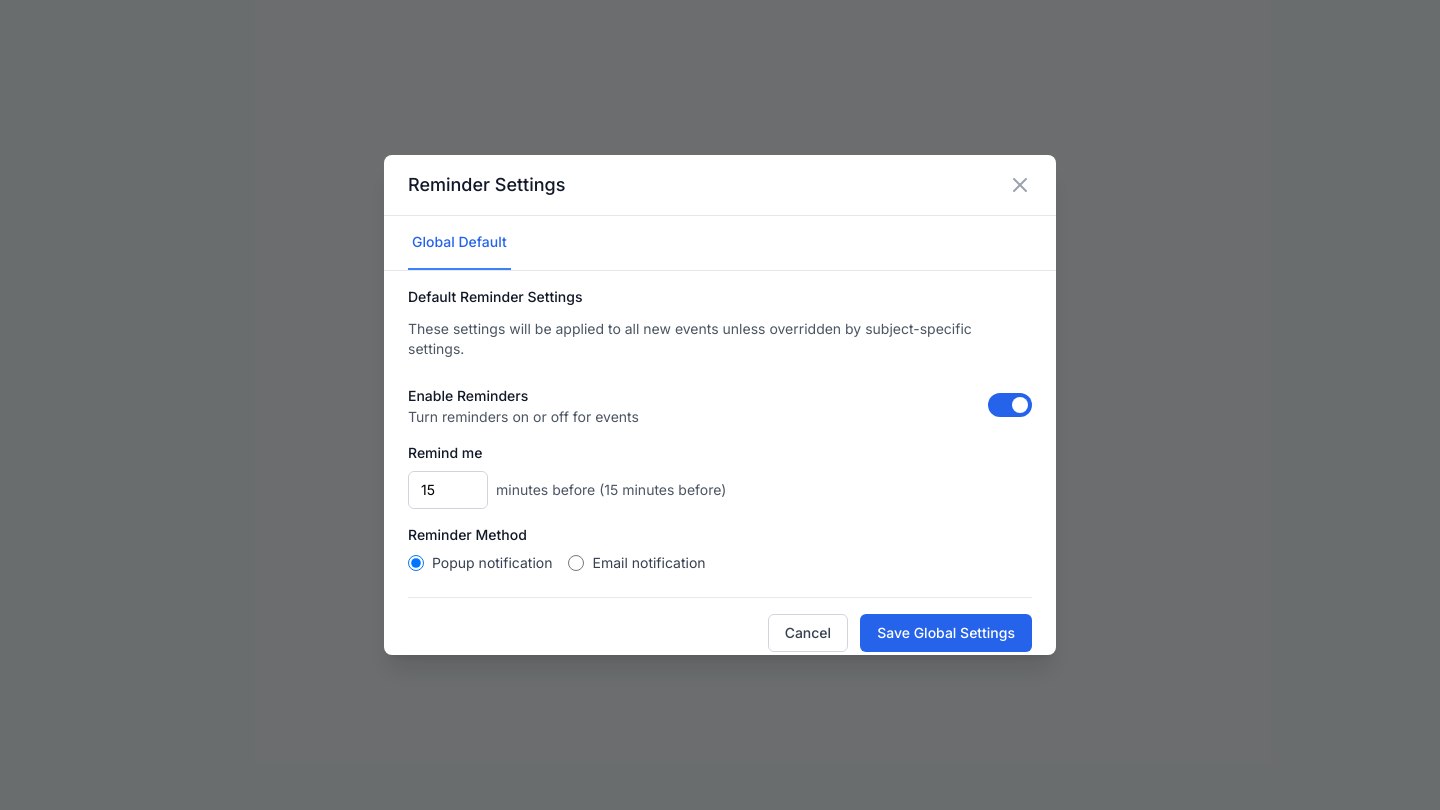
Test: ReminderSettings › should format minutes to readable text
The width and height of the screenshot is (1440, 810).
Check: the text "minutes before (15 minutes before)" is shown, box [496,480,726,500]
// Change to 60 minutes
Replace the text in the number field showing "15" with "60" at (448, 490), box [408,471,488,509]
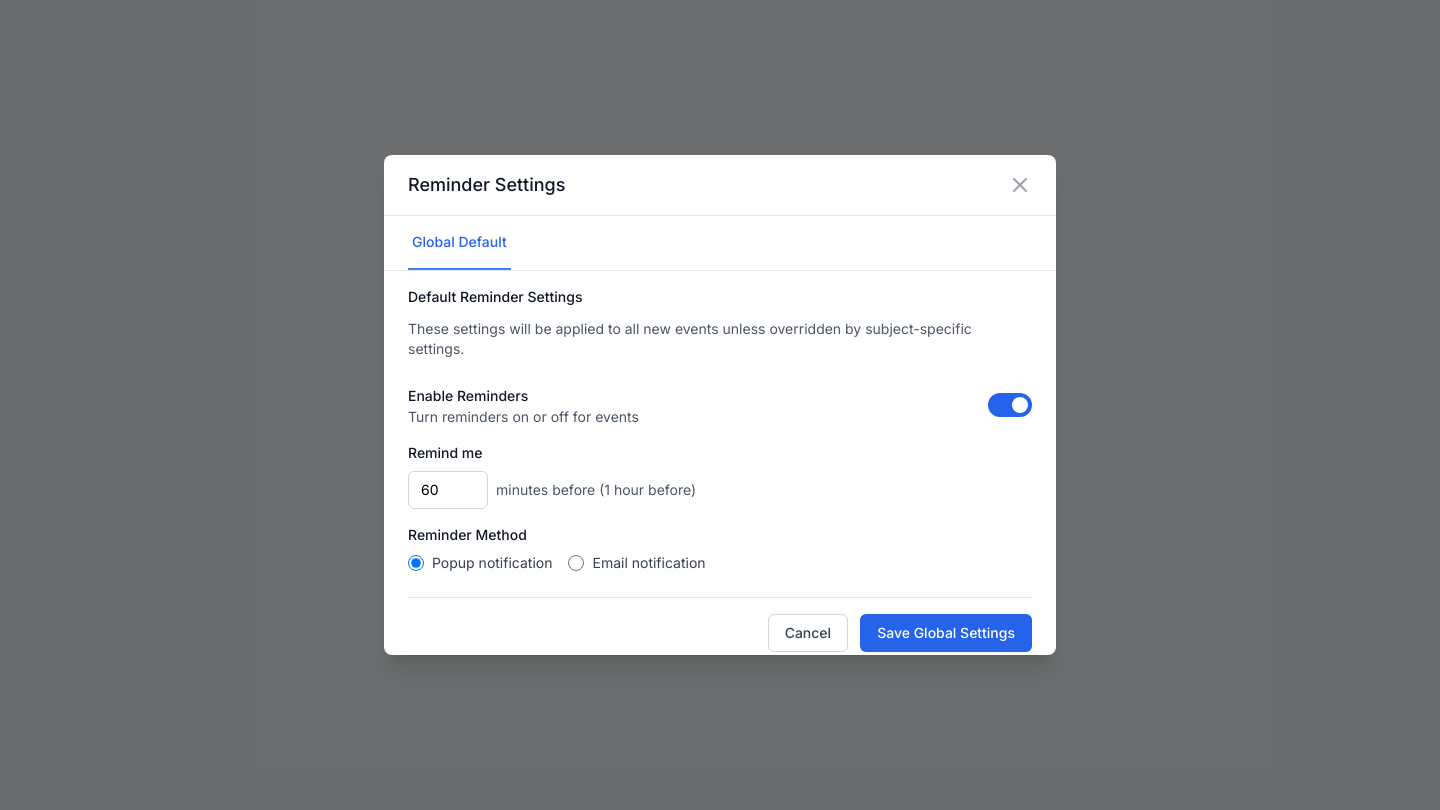
Check: the text "minutes before (1 hour before)" is shown, box [496,480,696,500]
// Change to 1440 minutes (1 day)
Replace the text in the number field showing "15" with "1440" at (448, 490), box [408,471,488,509]
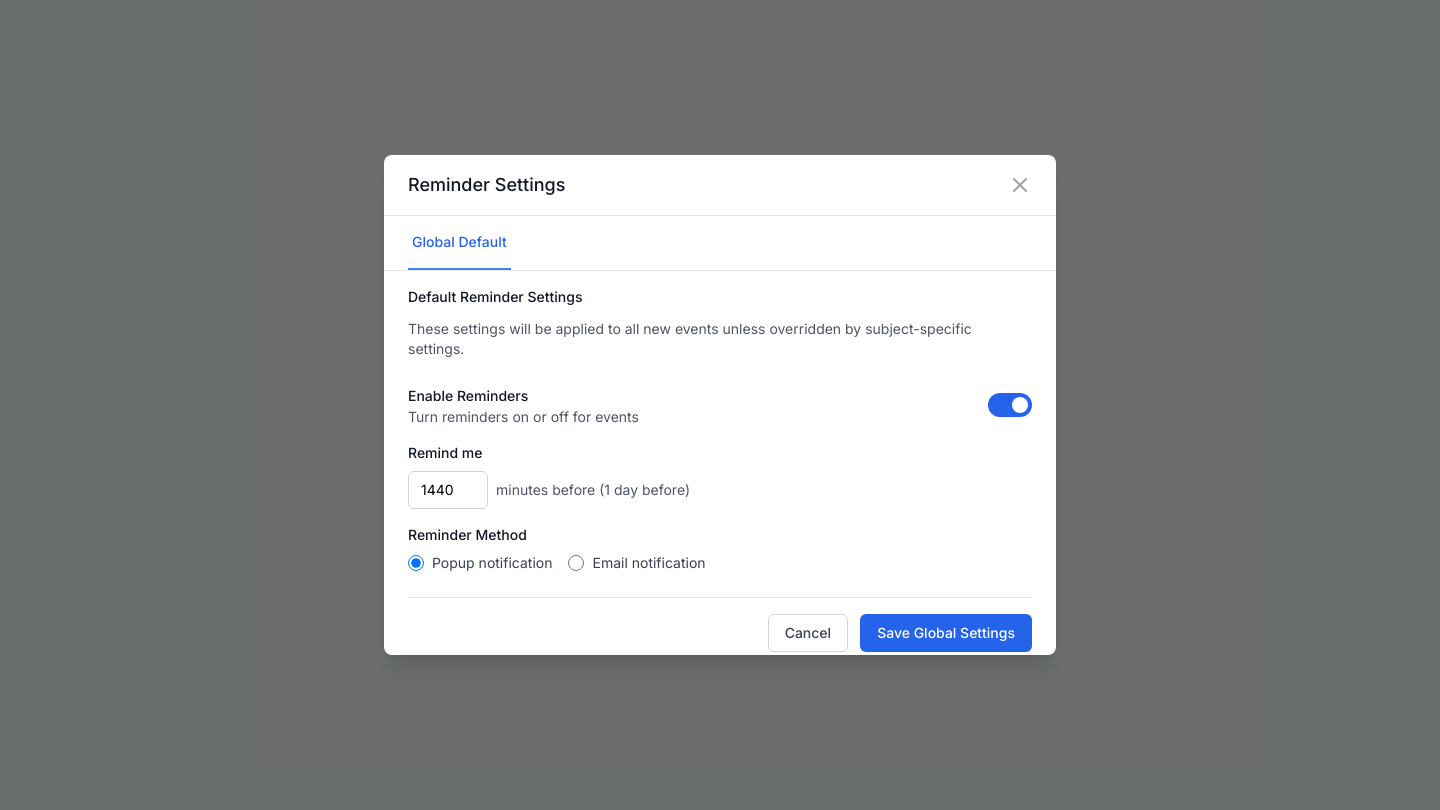
Check: the text "minutes before (1 day before)" is shown, box [496,480,690,500]
